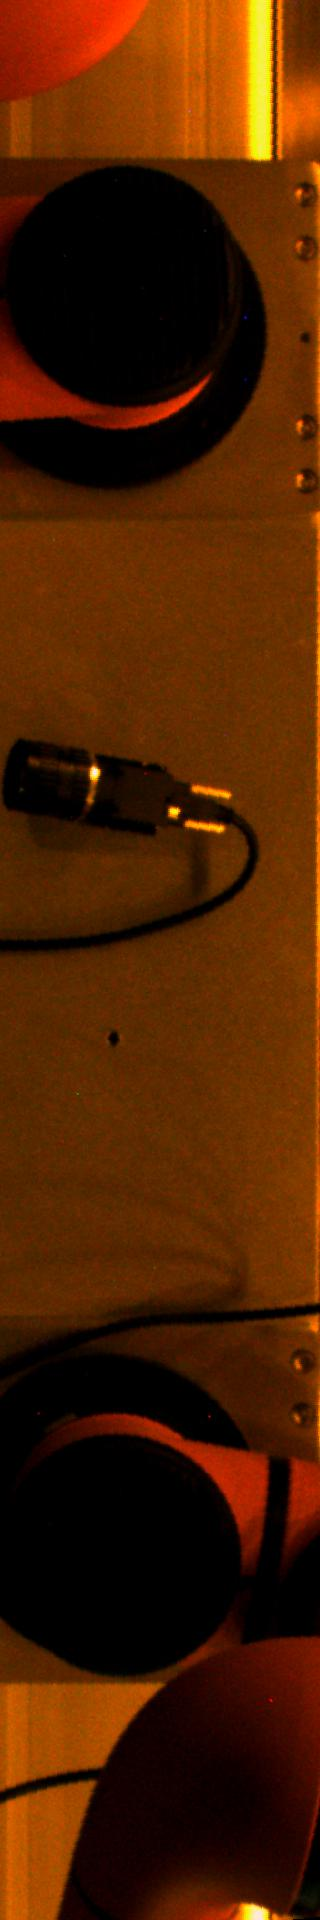keyPoint_2: (98, 1022, 128, 1053)
